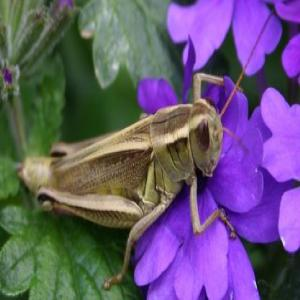locust: (21, 58, 239, 249)
